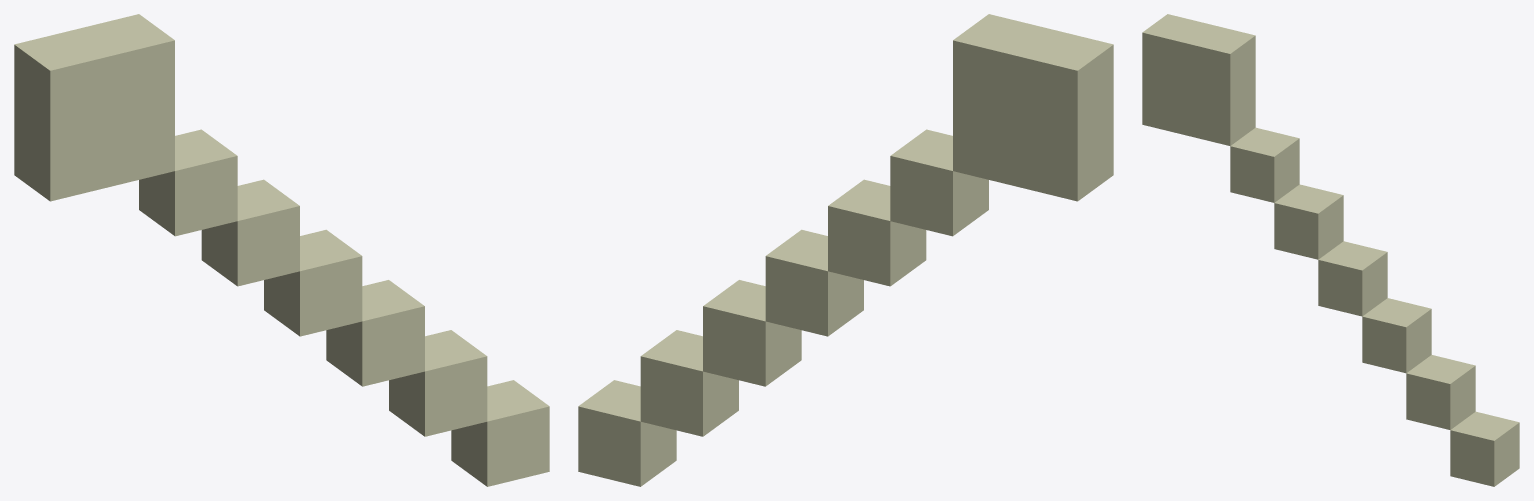
File: Spear-Tan.vox.obj
3 views of the same model, side by side, from view 1: azimuth 30°, elevation 25°; view 2: azimuth 150°, elevation 25°; view 3: azimuth 330°, elevation 25° (orthographic). The views are drawn at different scales.
Size of the model in its own units: 0.8 by 0.8 by 0.1.
Materials: 1 (1 with a texture image).
